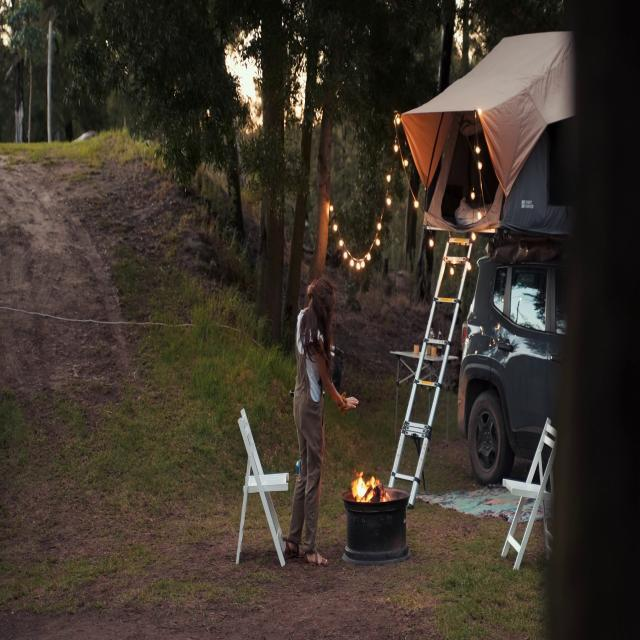Fire: (351, 462, 383, 506)
